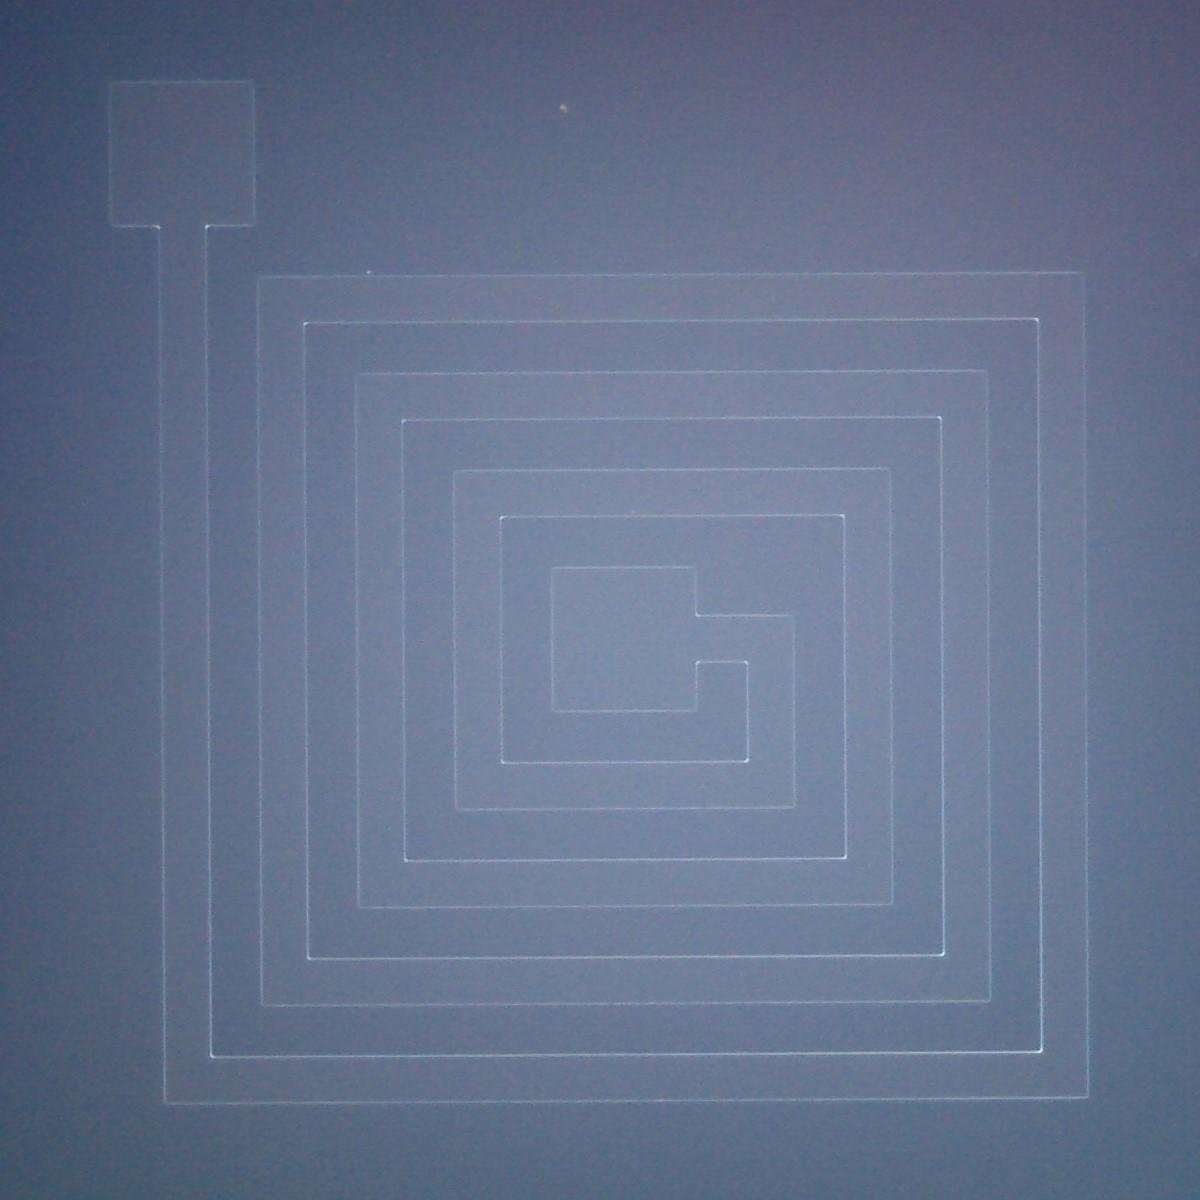s_point: (556, 100, 573, 115), (363, 267, 375, 279)
